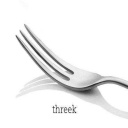Fork: (11, 15, 128, 105)
